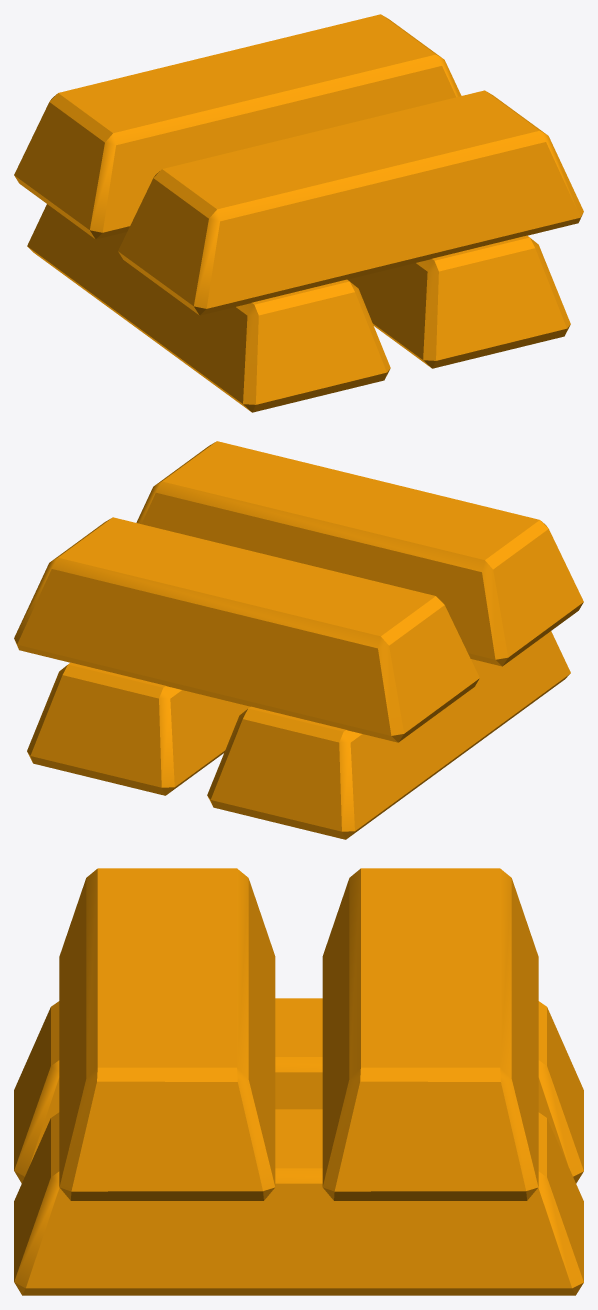
Rendered from SM_Gold_Bar_2_stack.fbx.
3 views of the same model, one above another, from view 1: azimuth 30°, elevation 25°; view 2: azimuth 150°, elevation 25°; view 3: azimuth 270°, elevation 25° (orthographic). The views are drawn at different scales.
Parts seen in each view (by area): view 1: Gold_Bar01, Gold_Bar02, Gold_Bar04, Gold_Bar03; view 2: Gold_Bar02, Gold_Bar01, Gold_Bar04, Gold_Bar03; view 3: Gold_Bar02, Gold_Bar01, Gold_Bar03, Gold_Bar04.
Boxes of the visible parts, x1,y1,x2,y2 form: Gold_Bar01: (118, 90, 583, 315); Gold_Bar02: (14, 14, 461, 239); Gold_Bar04: (27, 204, 390, 412); Gold_Bar03: (348, 235, 570, 368); Gold_Bar02: (14, 517, 479, 742); Gold_Bar01: (136, 441, 583, 666); Gold_Bar04: (207, 631, 570, 839); Gold_Bar03: (27, 662, 250, 795); Gold_Bar02: (322, 868, 538, 1200); Gold_Bar01: (59, 868, 275, 1200); Gold_Bar03: (14, 1109, 583, 1295); Gold_Bar04: (14, 998, 583, 1183).
Bounding box in the file's own units: 0.1983 × 0.0888 × 0.1983.
Materials: 1 (1 with a texture image).
